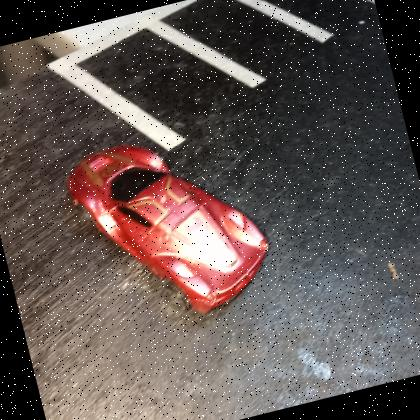Car: (58, 114, 283, 342)
